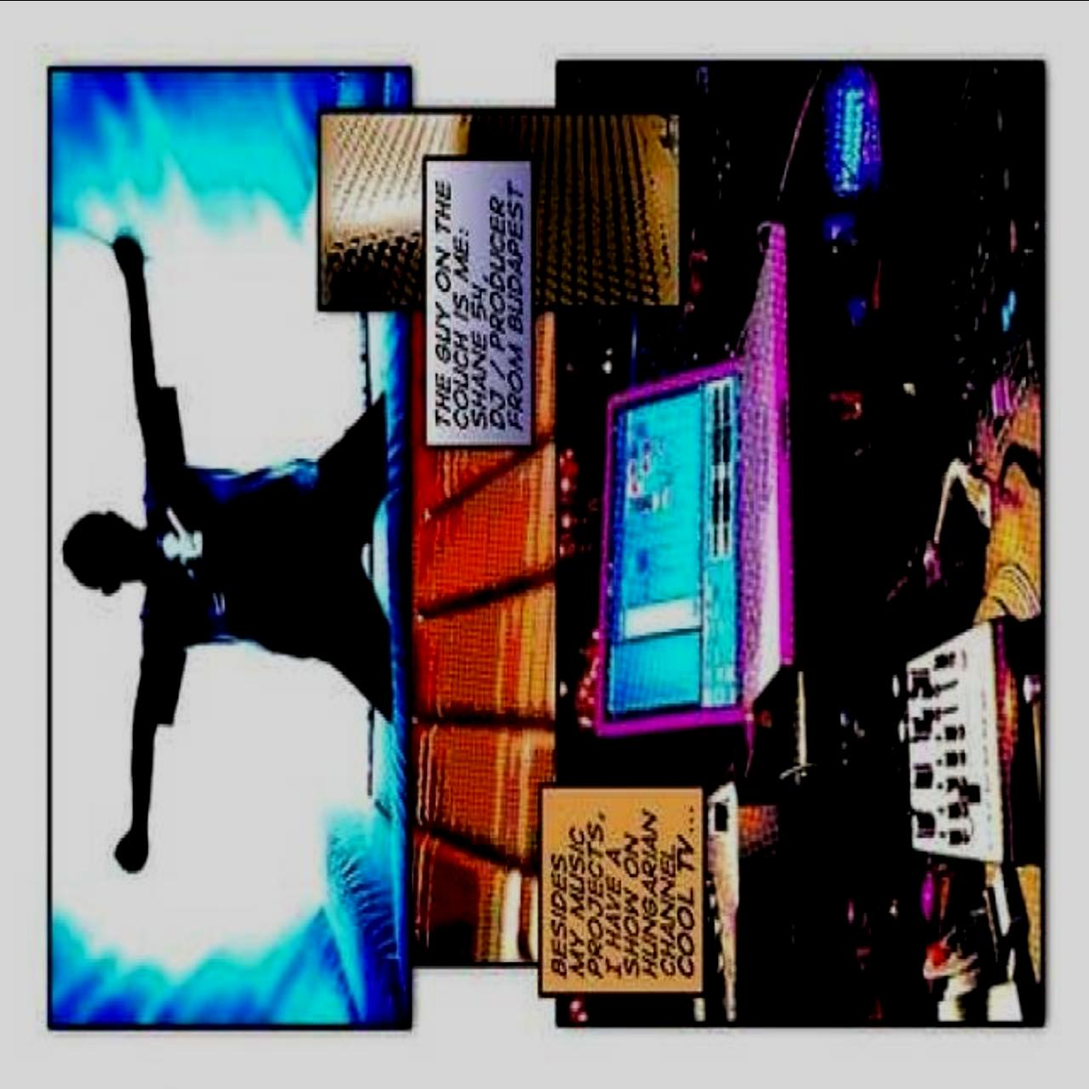laptop: (586, 316, 799, 749)
